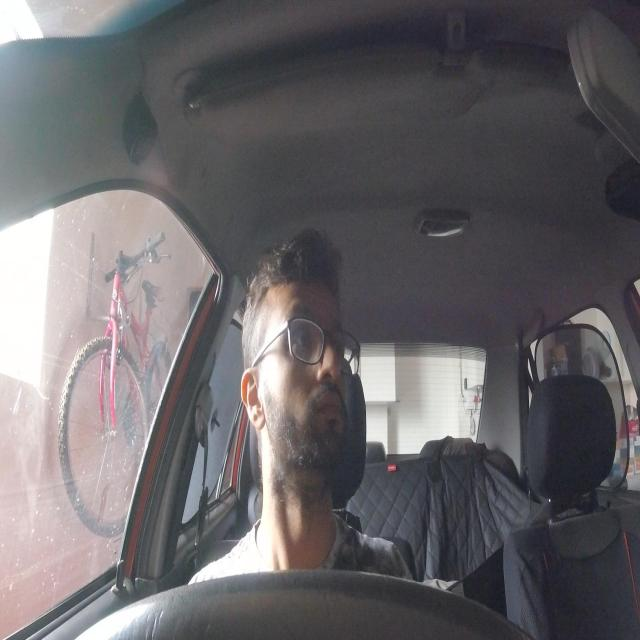open: (284, 304, 323, 376)
